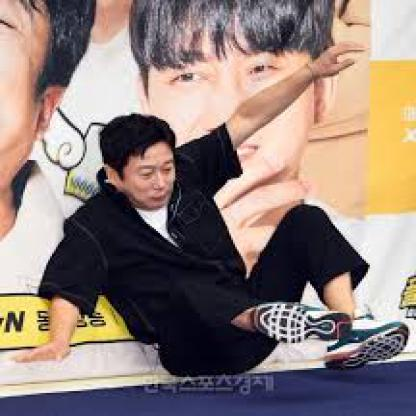Fall_Down: (10, 40, 414, 381)
